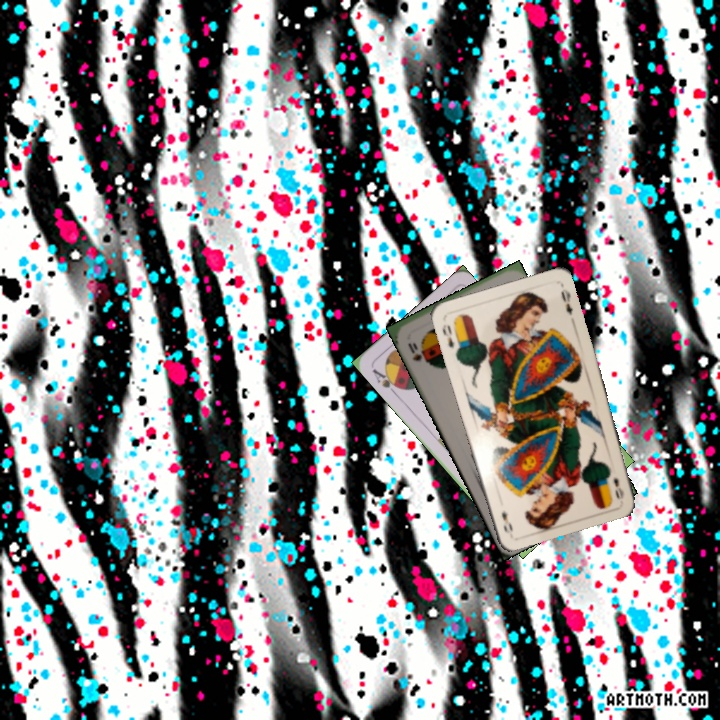EO: (438, 321, 457, 351), (609, 474, 627, 502)
SA: (368, 365, 404, 397)
SO: (404, 339, 430, 366)
